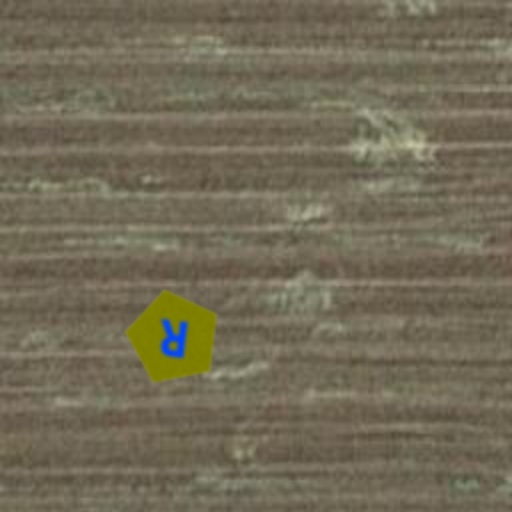pentagon: (118, 282, 230, 394)
